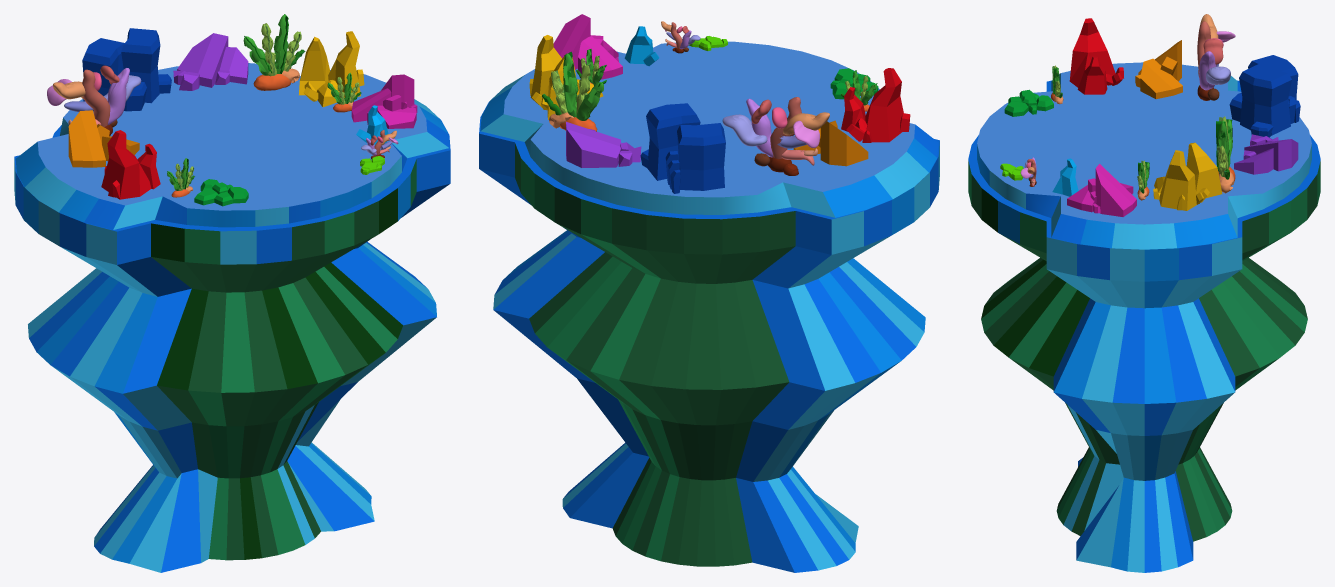
The model's file is board.gltf.
The picture shows the model from 3 angles, left to right: view 1: azimuth 30°, elevation 25°; view 2: azimuth 150°, elevation 25°; view 3: azimuth 270°, elevation 25°; orthographic projection. The views are drawn at different scales.
Visible parts, largest first — view 1: Water; view 2: Water; view 3: Water.
Part boxes in pixels (<box>): Water: <box>14,14,450,572</box>; Water: <box>479,14,939,572</box>; Water: <box>968,14,1320,572</box>.
Size of the model in its own units: 24.24 by 27.29 by 20.
